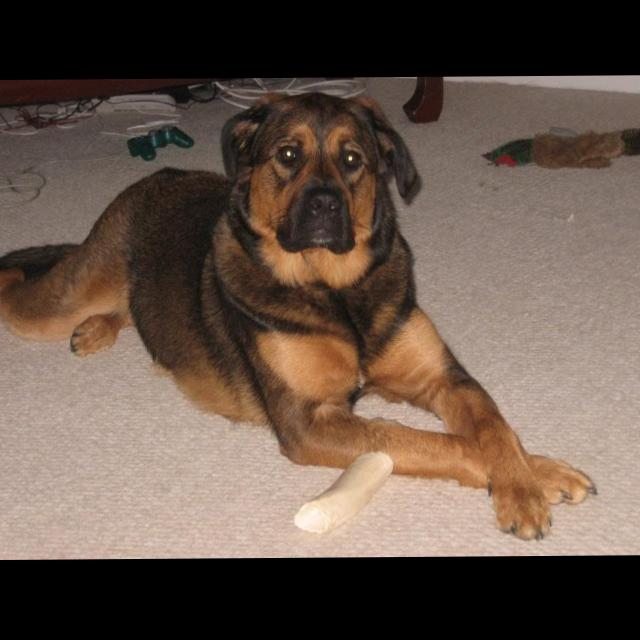other_dog_breed: (1, 90, 599, 547)
